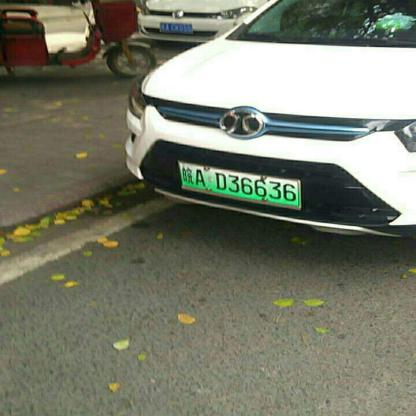lp: (177, 157, 301, 215)
